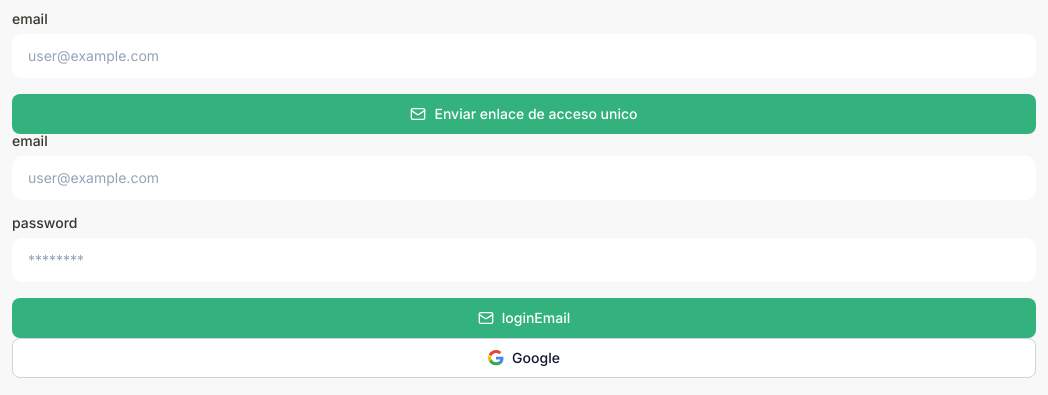
Test: AuthForms › Google loading stays local and does not disable OTP/email actions
Click the button with test id "login-google": (524,358) [12,338,1036,378]
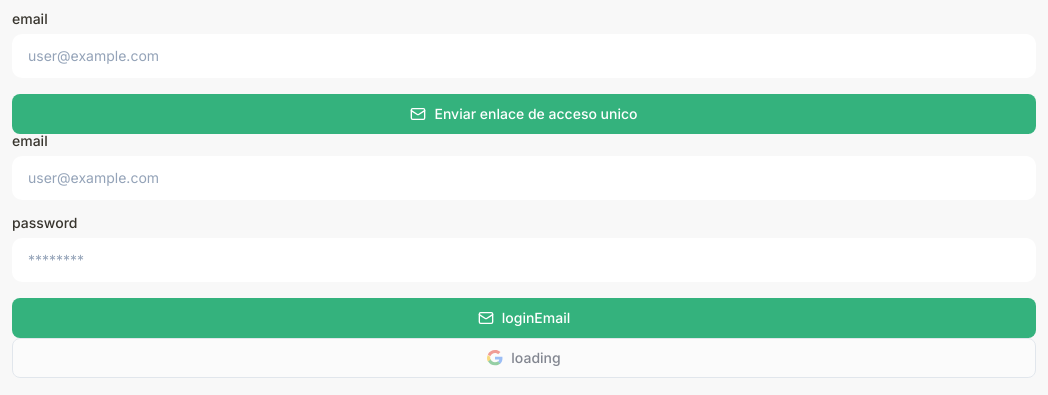
expect the button "Enviar enlace de acceso unico" is enabled: met, box [12,94,1036,134]
expect the button with test id "login-google" is disabled: met, box [12,338,1036,378]
